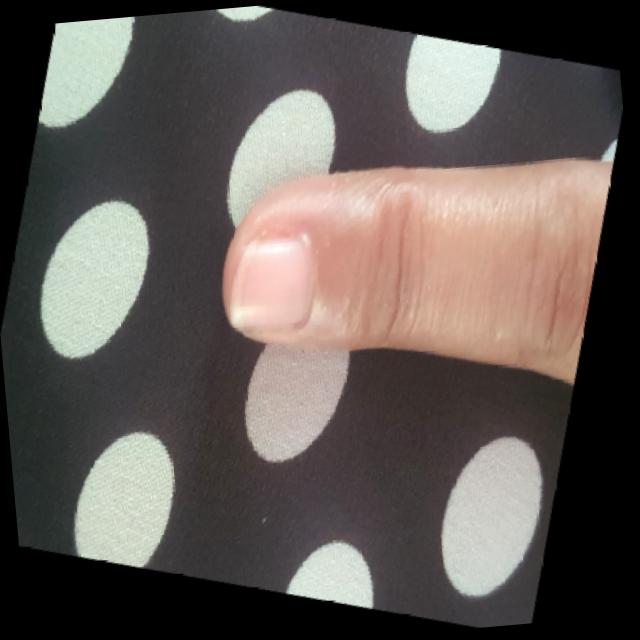Nail: (231, 234, 307, 330)
